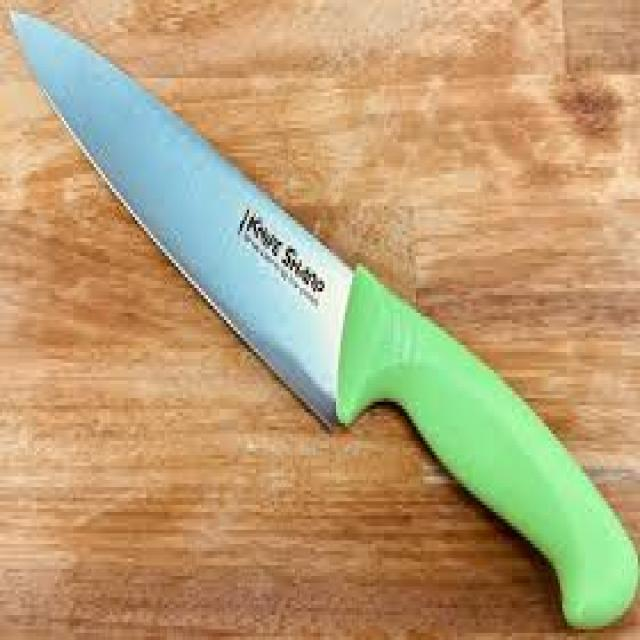knife: (11, 10, 638, 627)
